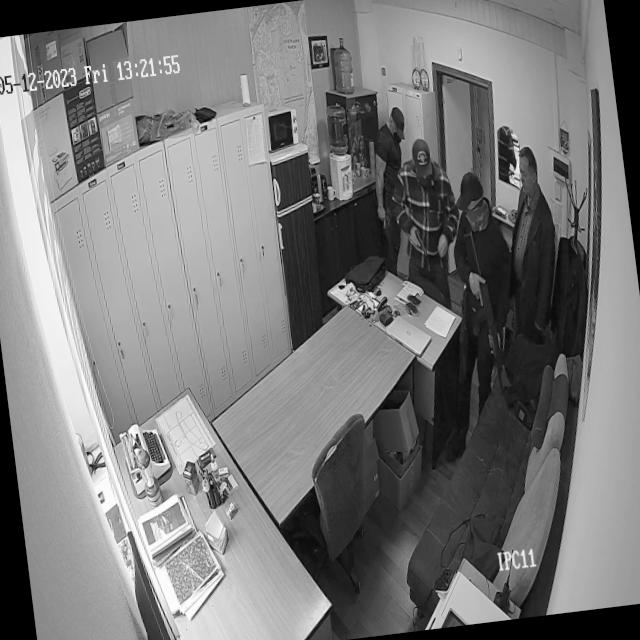gun: (470, 268, 518, 456), (412, 225, 442, 281), (381, 204, 394, 241)
person: (506, 122, 557, 291)
person with a gun: (444, 155, 531, 451), (387, 130, 471, 325), (356, 99, 418, 260)
